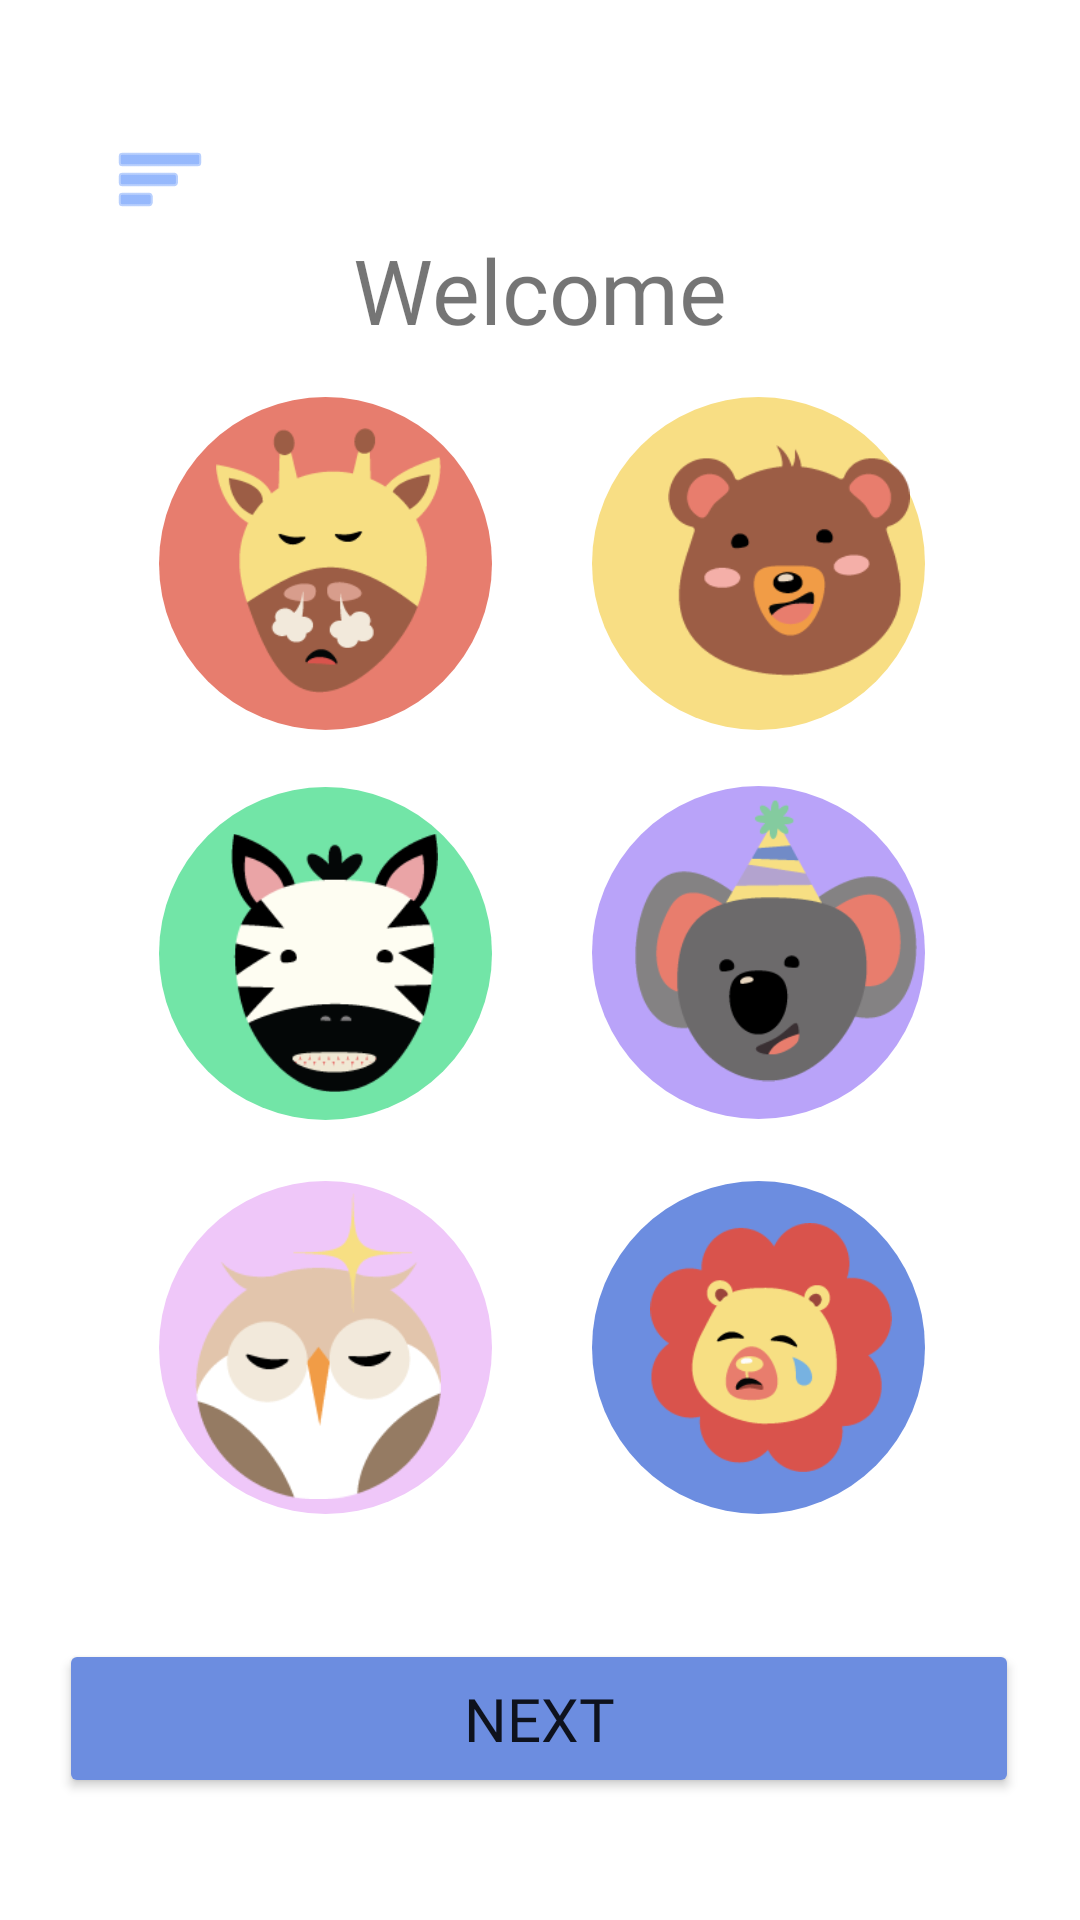

Icons on this 1080*1920 Android screen, each with the point to tap as [x,y]:
sort by size: [160,179]
